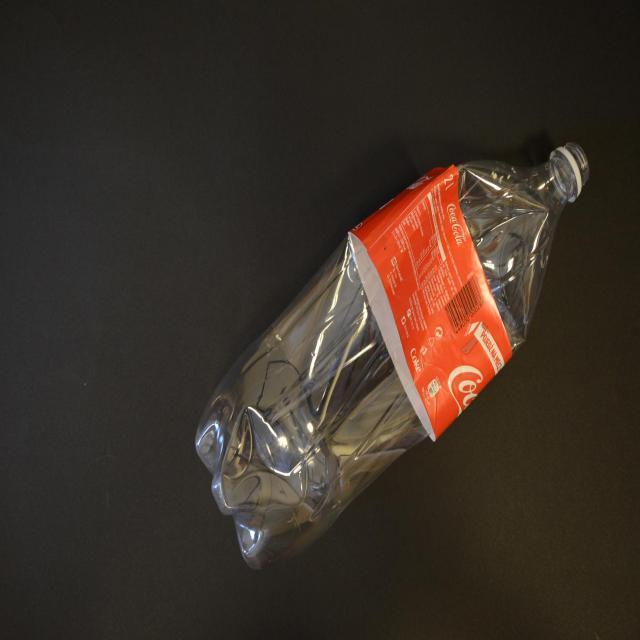plastic_bottle: (195, 142, 590, 570)
